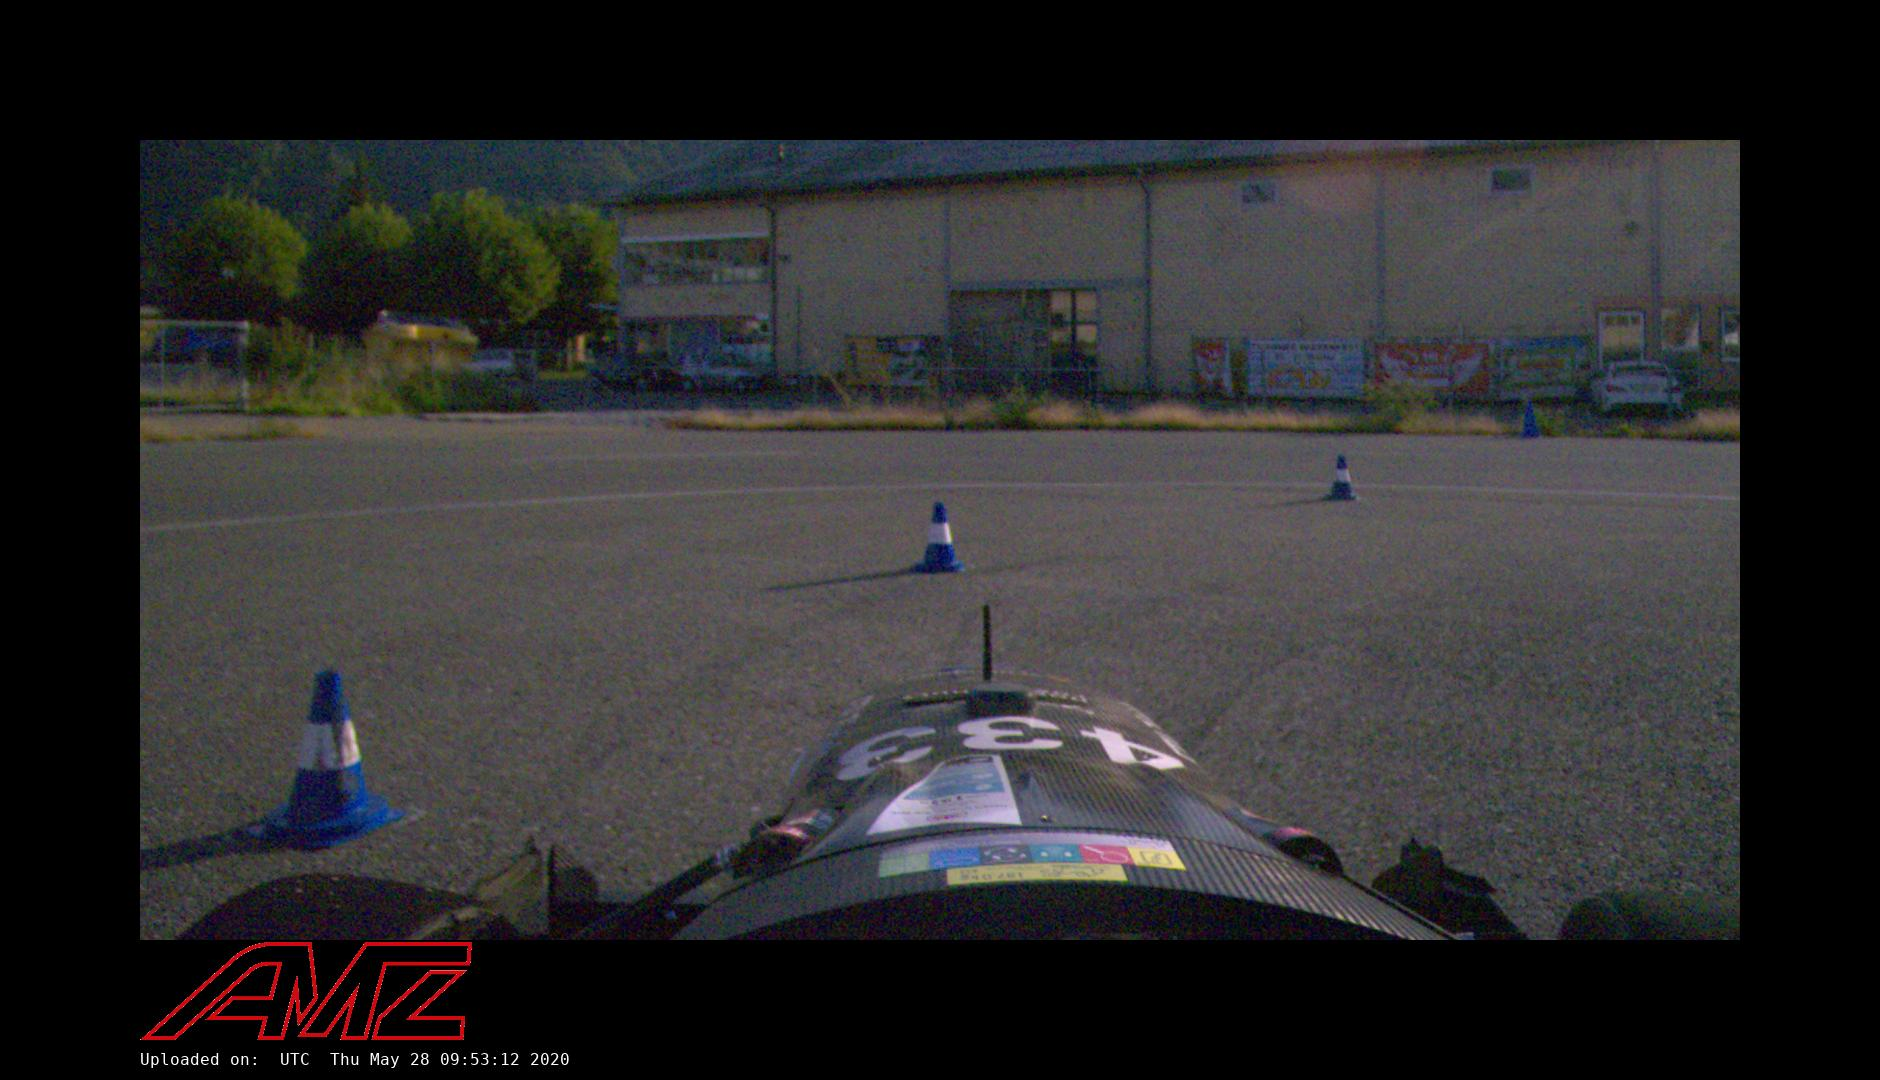blue_cone: (247, 670, 405, 847), (912, 501, 968, 574), (1326, 453, 1360, 503)
